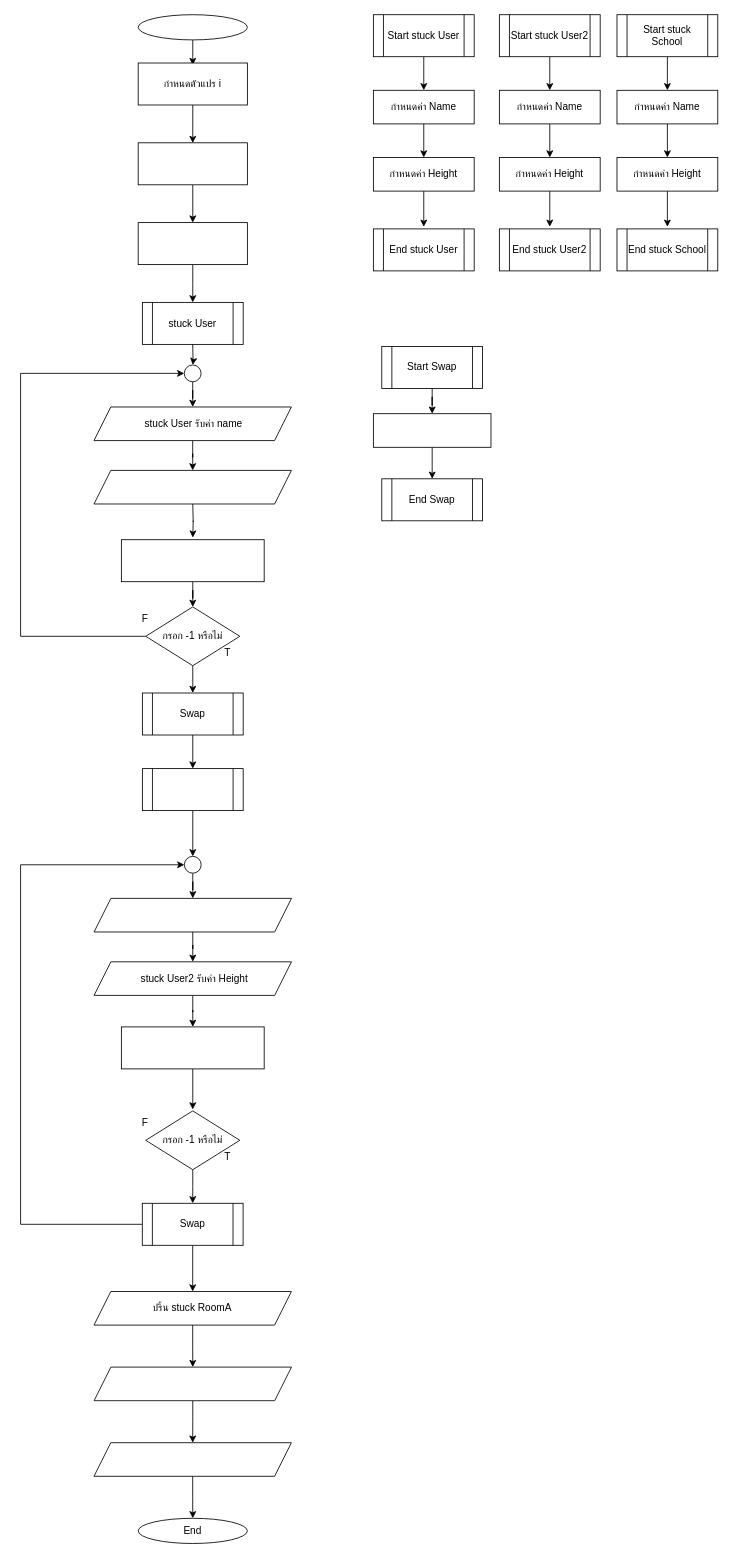
Some shapes in this 732 by 1558 pixel diagram are drawn without their labels. The shapes that lost their labels are listed below. From the top down, each one's centre as x and y in pixels, then its label:
At [192,27]: "Start".
At [192,163]: "กำหนดตัวแปร i2".
At [192,243]: "กำหนดตัวแปร Most tax".
At [432,430]: "เรียงจากน้อยไปมาก".
At [192,487]: "stuck User รับค่า Height".
At [192,560]: "ก็อปใส่ตัวแปร stuck School".
At [192,789]: "stuck User2".
At [192,915]: "stuck User2 รับค่า name".
At [192,1047]: "ก็อปใส่ตัวแปร stuck School ต่อจาก Room A".
At [192,1383]: "ปริ้น stuck RoomB".
At [192,1459]: "ปริ้น stuck School".
